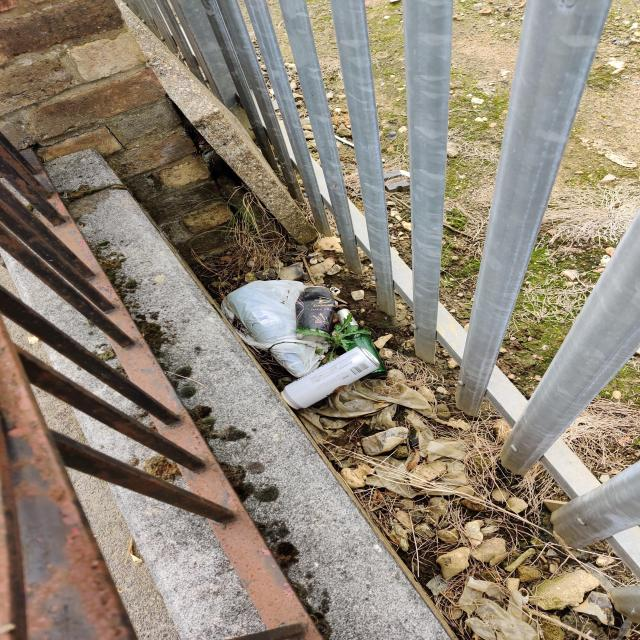litter: (282, 346, 379, 416), (300, 286, 339, 336)
